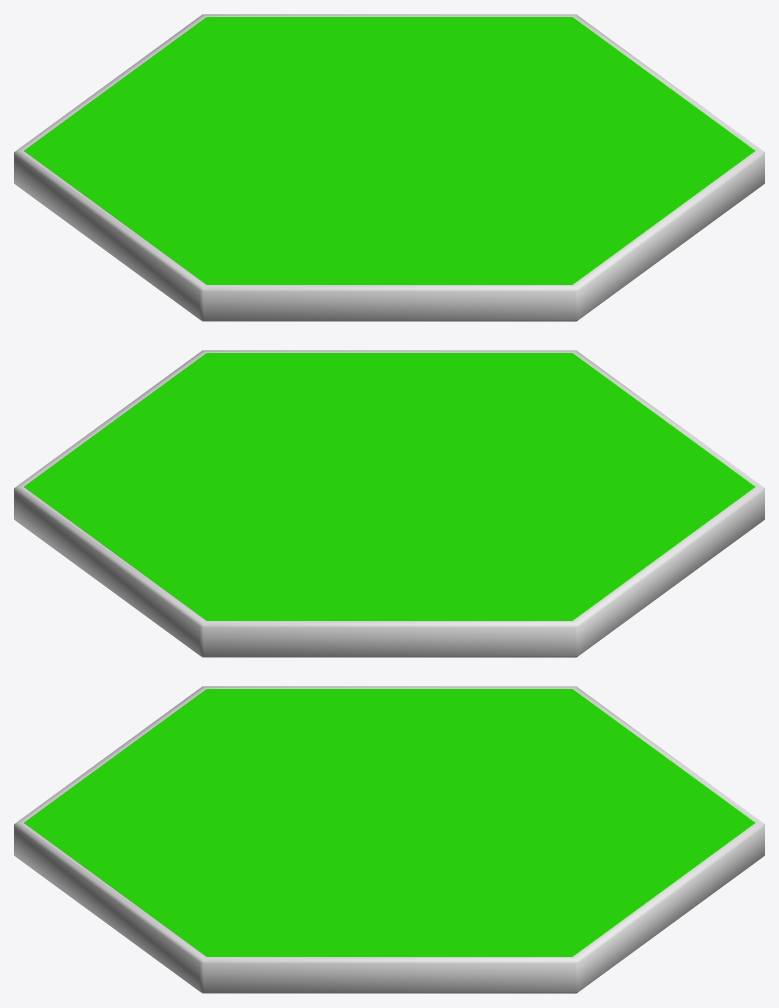
The model's file is hex.glb.
The picture shows the model from 3 angles, top to bottom: view 1: azimuth 30°, elevation 25°; view 2: azimuth 150°, elevation 25°; view 3: azimuth 270°, elevation 25°; orthographic projection.
Visible parts, largest first — view 1: hex; view 2: hex; view 3: hex.
Boxes of the visible parts, bbox=[...] form: hex: bbox=[14, 14, 764, 321]; hex: bbox=[14, 350, 764, 657]; hex: bbox=[14, 686, 764, 993].
Bounding box in the file's own units: 1.73 × 0.1 × 1.99.
